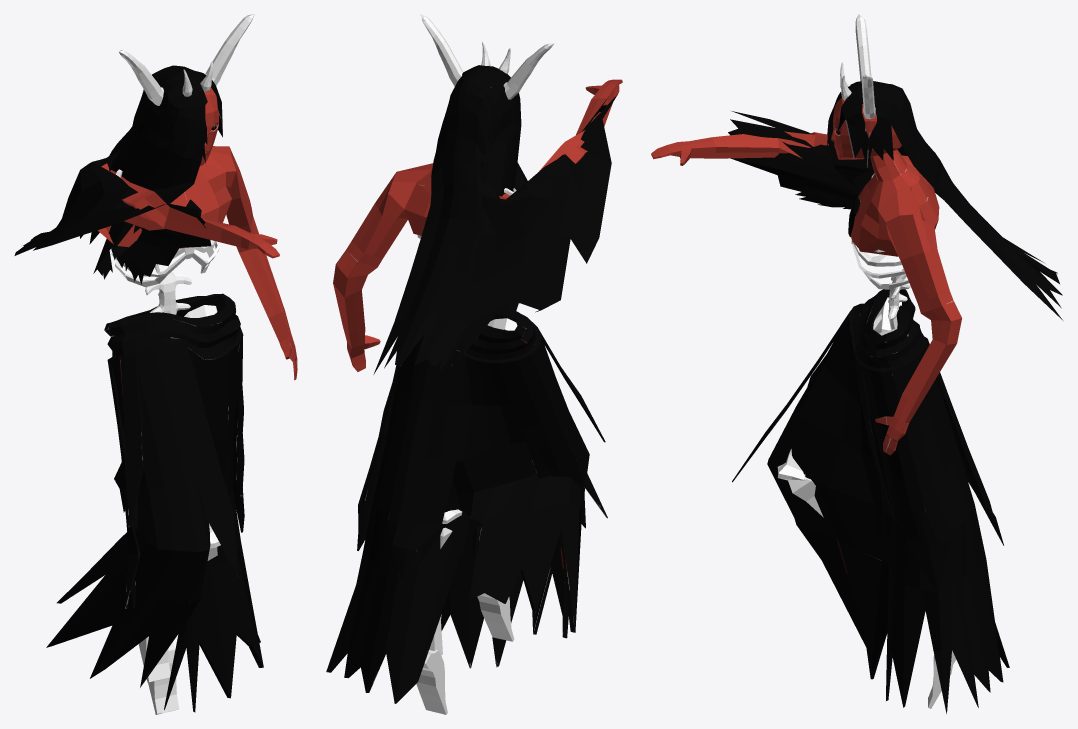
File: cursedqueenattack_17.fbx
3 views of the same model, side by side, from view 1: azimuth 30°, elevation 25°; view 2: azimuth 150°, elevation 25°; view 3: azimuth 270°, elevation 25° (orthographic). The views are drawn at different scales.
Visible parts, largest first — view 1: cursed_queen; view 2: cursed_queen; view 3: cursed_queen.
Part boxes in pixels (box(x1,y1,x2,y2)): cursed_queen: box(14, 14, 297, 714); cursed_queen: box(326, 14, 622, 714); cursed_queen: box(651, 14, 1062, 713).
Bounding box in the file's own units: 106 × 278 × 160.
